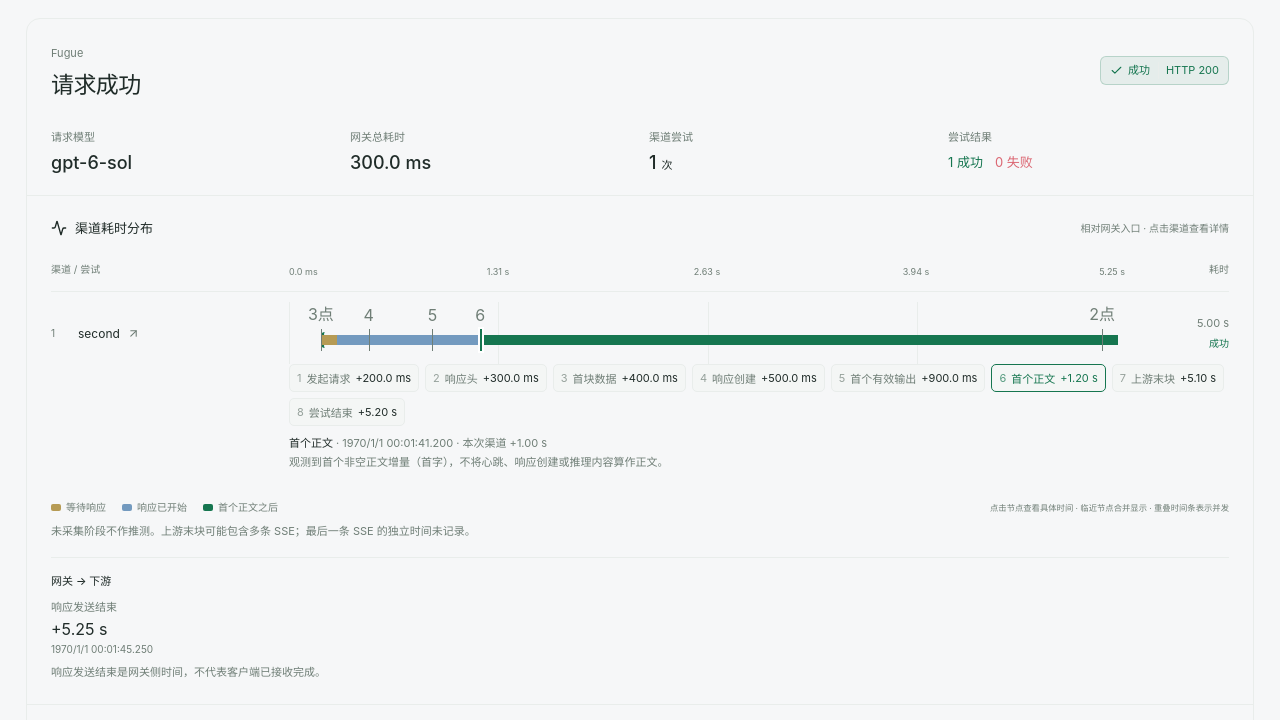
Test: shows response milestones on the bar, focuses their exact time, and separates downstream completion
Expected: the button "4 响应创建 +500.0 ms" is shown, [692,364,825,392]
Click the button "7 上游末块 +5.10 s" at [1168, 378], box [1112,364,1224,392]
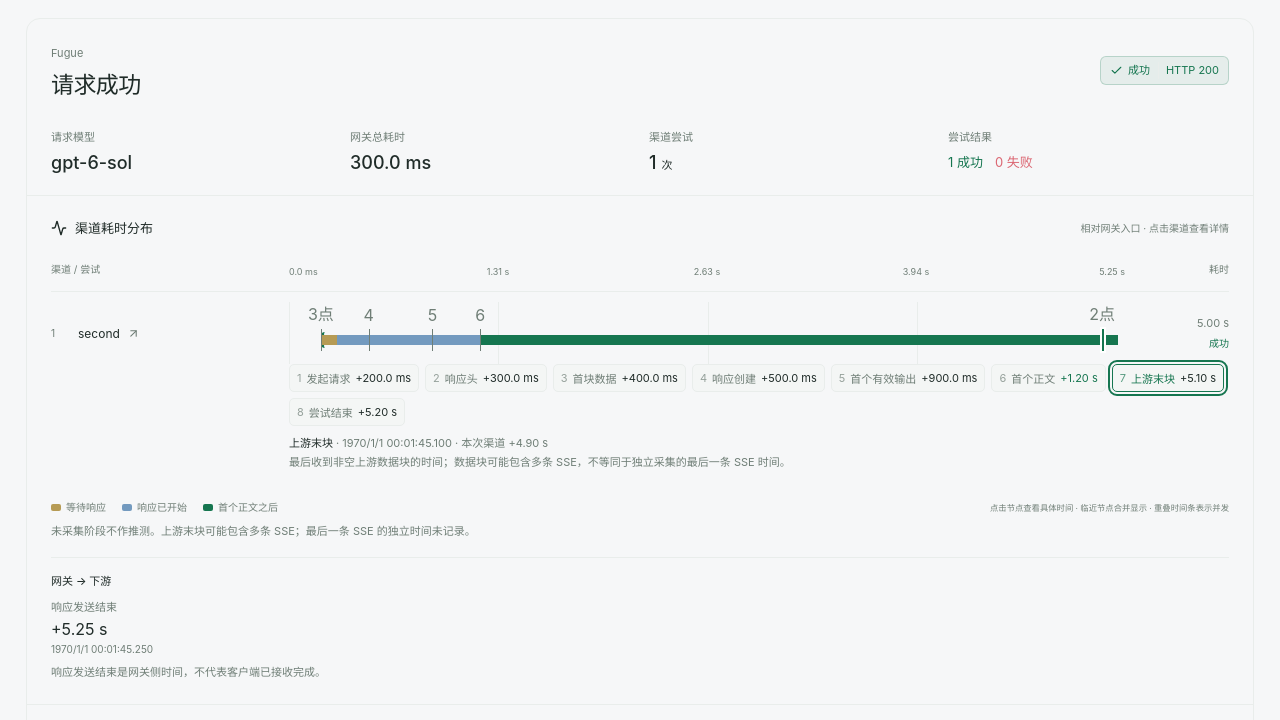
Expected: the text "响应发送结束" is shown, [51,600,117,614]
Expected: the message shows "本次渠道 +4.90 s", [452,436,548,450]
Expected: the message shows "不等同于独立采集的最后一条 SSE 时间", [289,455,791,469]
Click the button named "查看第 1 次尝试" at [708, 333], box [289,302,1126,364]
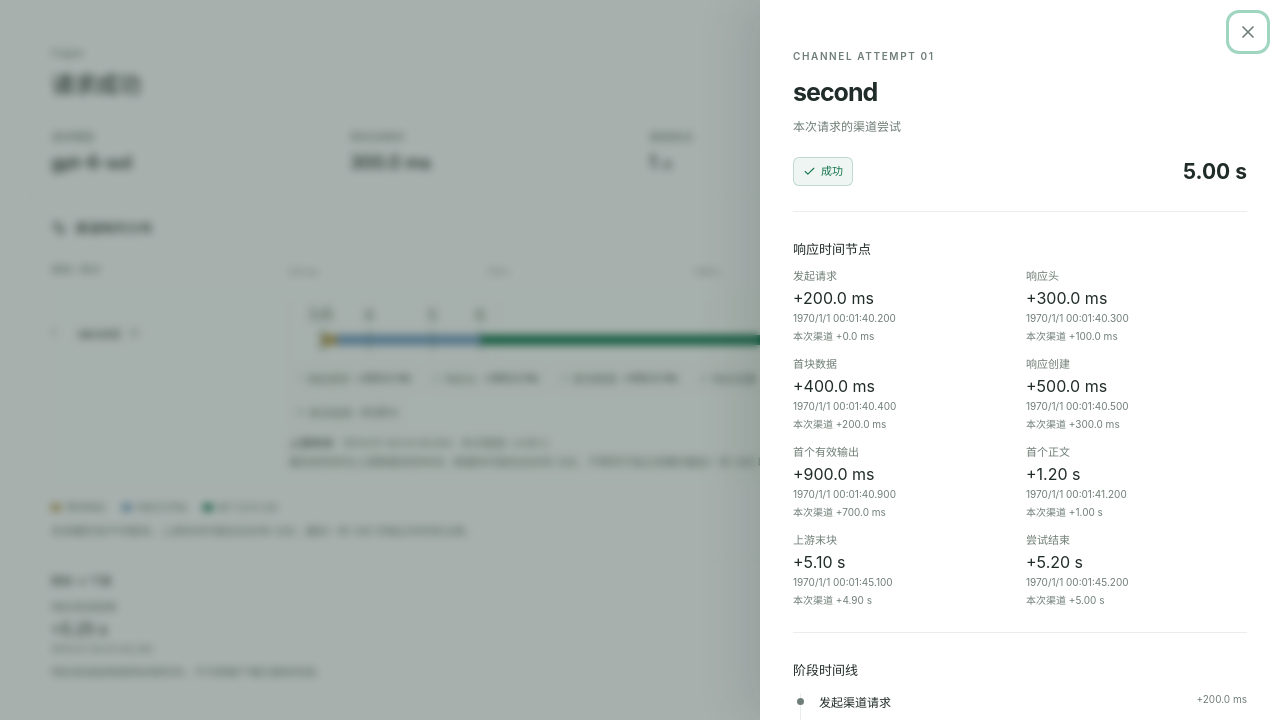
Expected: the heading "响应时间节点" is shown, [793,241,871,257]
Expected: the text "首个正文" is shown, [1026,445,1070,459]
Expected: the text "上游末块" is shown, [793,533,837,547]
